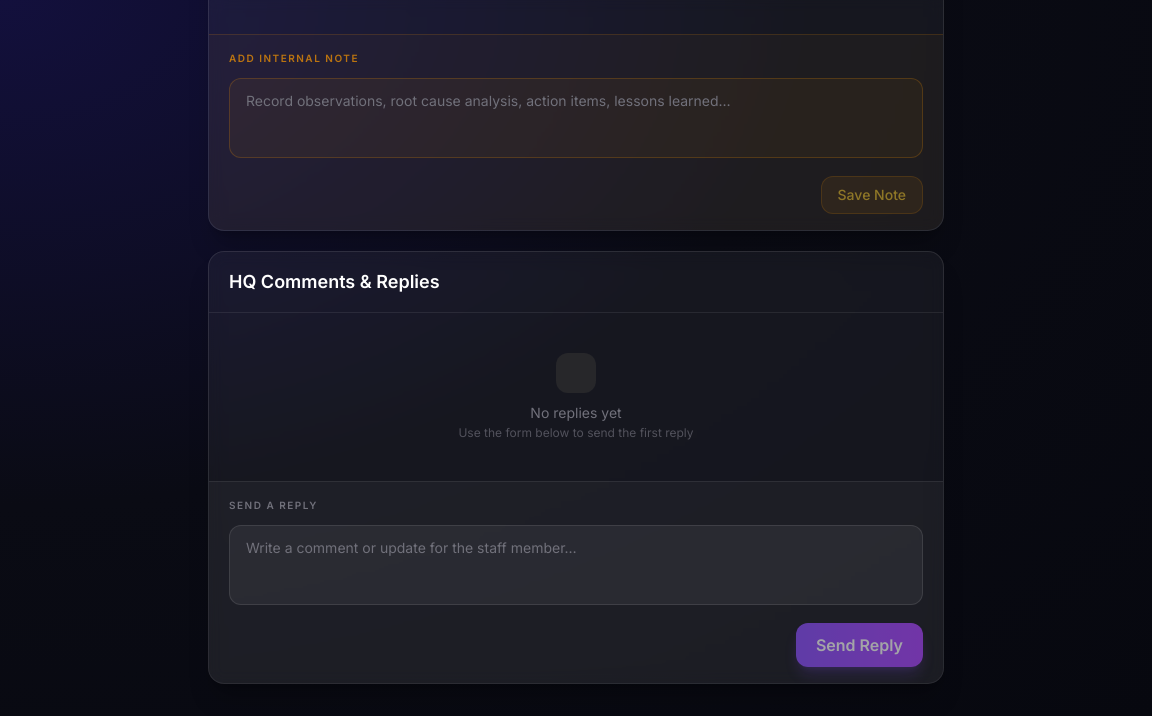
Test: AdminIncidentDetailPage (detail) › HQ comments and replies › Send Reply button is enabled after typing
This screenshot has width=1152, height=716.
(page scrolled)
Type "Thank you for reporting." into the text box with placeholder "Write a comment or update for the staff member…" at point(576, 565), box [229,525,923,605]
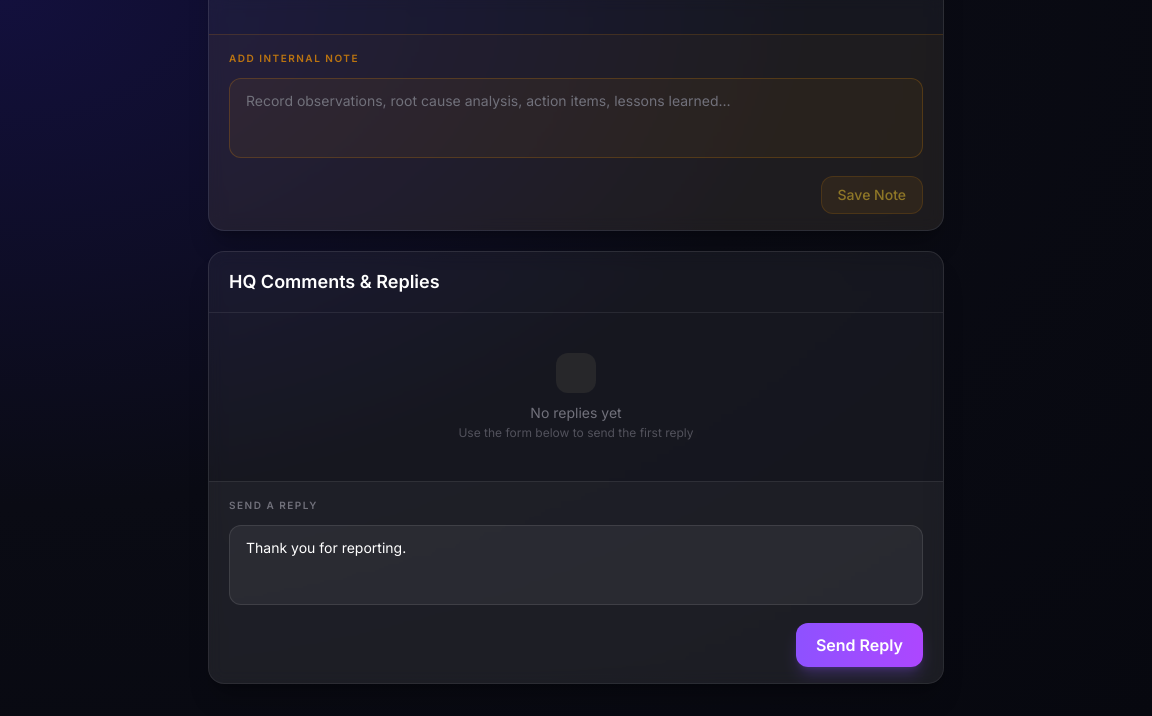
Result: the button "Send Reply" is enabled at [796,623,923,667]
